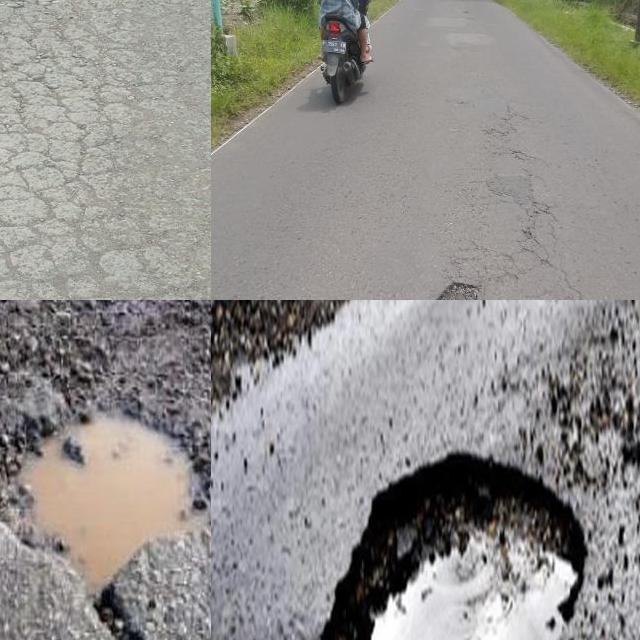Lubang: (0, 300, 211, 609), (324, 449, 594, 640)
Retak Buaya: (0, 0, 144, 300)
